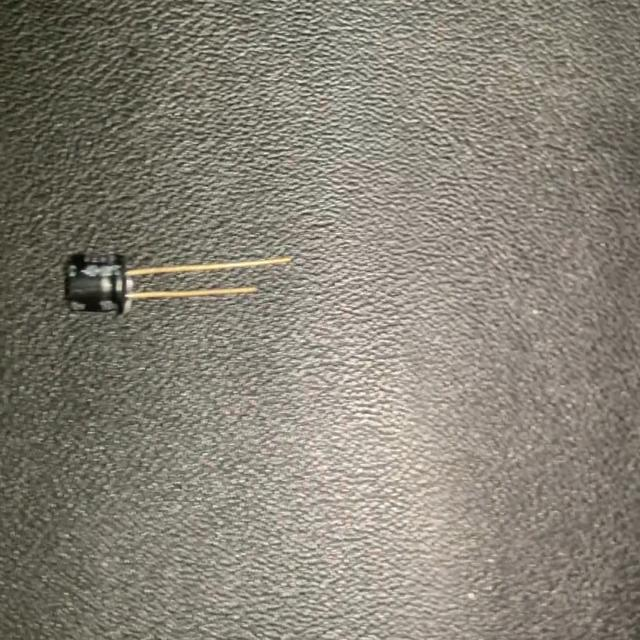capacitor: (61, 242, 293, 316)
